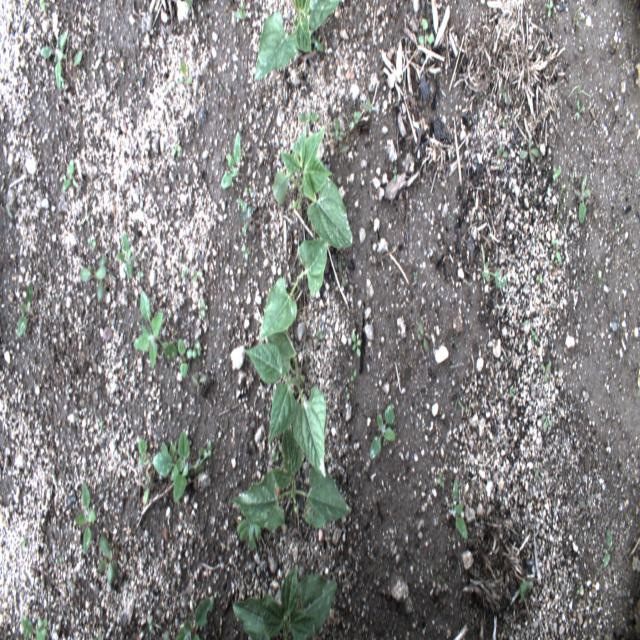crop: (244, 312, 326, 478), (230, 428, 352, 530), (272, 121, 353, 246), (232, 565, 338, 639), (260, 236, 328, 342), (254, 0, 340, 80)
weed: (152, 430, 206, 502), (132, 290, 178, 370), (39, 28, 75, 88), (172, 594, 214, 639), (368, 401, 396, 460), (75, 482, 96, 554), (236, 500, 262, 550), (448, 477, 468, 540), (480, 243, 507, 289), (220, 131, 241, 188), (98, 533, 120, 585), (116, 230, 137, 278), (17, 282, 33, 338), (236, 198, 259, 235), (161, 439, 179, 482), (567, 71, 591, 98), (519, 136, 540, 166), (578, 173, 590, 225), (21, 614, 45, 639), (62, 158, 79, 192), (67, 50, 83, 85), (97, 254, 108, 302), (556, 196, 569, 234), (177, 57, 193, 85), (417, 321, 431, 353), (418, 17, 434, 45), (556, 181, 570, 213), (328, 117, 347, 140), (548, 233, 562, 264), (298, 110, 319, 130), (602, 527, 612, 568), (178, 338, 188, 378), (80, 265, 106, 280), (592, 262, 608, 286), (66, 572, 80, 598), (141, 470, 151, 504), (138, 438, 150, 466), (496, 144, 508, 172), (350, 332, 362, 358), (191, 371, 207, 390), (361, 97, 380, 113), (498, 82, 510, 106), (35, 616, 48, 638), (520, 580, 533, 602), (575, 97, 586, 122), (337, 259, 346, 288), (311, 32, 324, 52), (454, 389, 466, 410), (336, 142, 349, 160), (551, 164, 563, 183), (572, 6, 582, 28), (350, 111, 361, 130), (437, 471, 446, 490), (533, 463, 541, 483), (544, 361, 551, 383), (193, 340, 201, 358), (191, 268, 200, 284), (241, 242, 249, 260), (198, 447, 209, 460), (186, 348, 197, 361), (87, 235, 97, 249), (236, 6, 246, 20), (200, 298, 207, 317), (180, 264, 188, 280), (543, 416, 552, 430), (546, 0, 553, 18), (345, 385, 353, 400), (625, 1, 634, 14), (530, 328, 538, 342), (60, 74, 67, 89), (500, 113, 508, 126), (575, 583, 583, 596), (170, 143, 178, 155), (206, 440, 212, 456), (509, 385, 516, 398), (568, 172, 575, 185), (490, 67, 498, 78), (148, 616, 153, 632), (316, 330, 324, 340), (39, 0, 45, 13), (575, 174, 582, 185), (393, 164, 397, 183), (273, 450, 279, 462), (464, 278, 473, 286), (351, 367, 356, 381), (99, 419, 103, 435), (177, 145, 181, 160), (164, 630, 170, 640), (413, 270, 418, 282), (537, 273, 543, 283), (137, 270, 144, 278), (244, 186, 252, 193), (126, 574, 131, 584), (448, 214, 455, 221), (56, 557, 62, 564), (474, 211, 478, 220)
